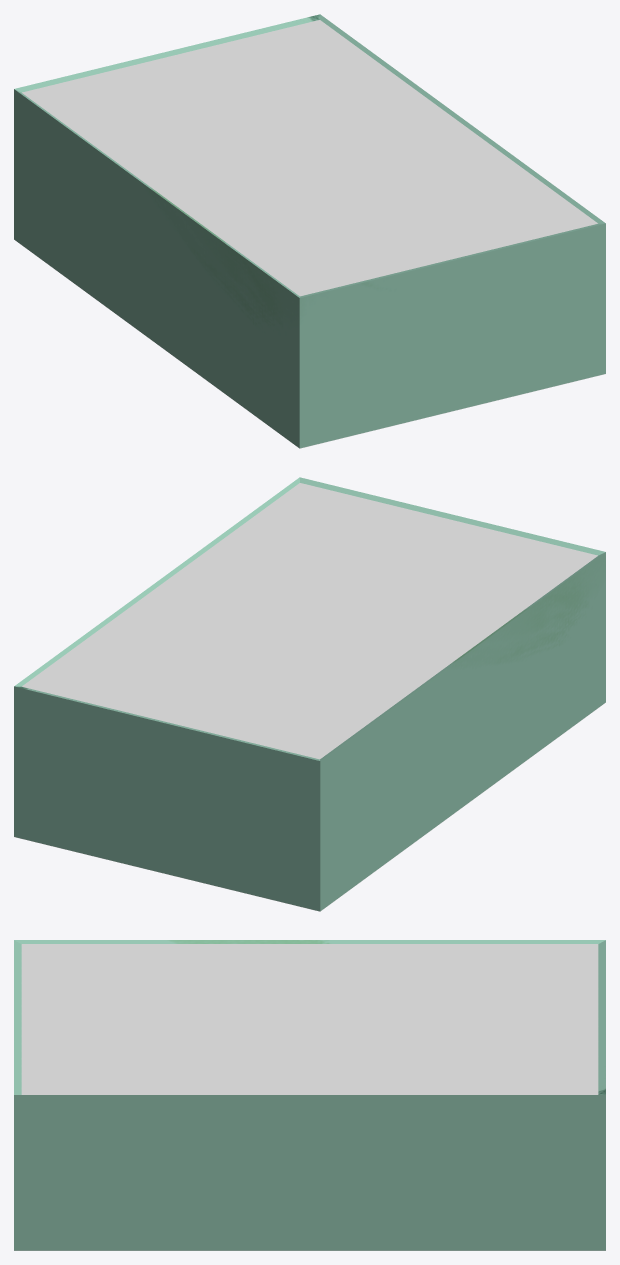
The model's file is lekarna 114.fbx.
3 views of the same model, one above another, from view 1: azimuth 30°, elevation 25°; view 2: azimuth 150°, elevation 25°; view 3: azimuth 270°, elevation 25° (orthographic). The views are drawn at different scales.
Parts seen in each view (by area): view 1: L_lekarna, L_strop; view 2: L_lekarna, L_strop; view 3: L_lekarna, L_strop.
Part boxes in pixels (bbox=[...]): L_lekarna: bbox=[14, 14, 605, 448]; L_strop: bbox=[22, 20, 597, 296]; L_lekarna: bbox=[14, 477, 605, 911]; L_strop: bbox=[22, 483, 597, 759]; L_lekarna: bbox=[14, 940, 605, 1250]; L_strop: bbox=[21, 944, 598, 1094].
Bounding box in the file's own units: 828 × 390 × 1339.
